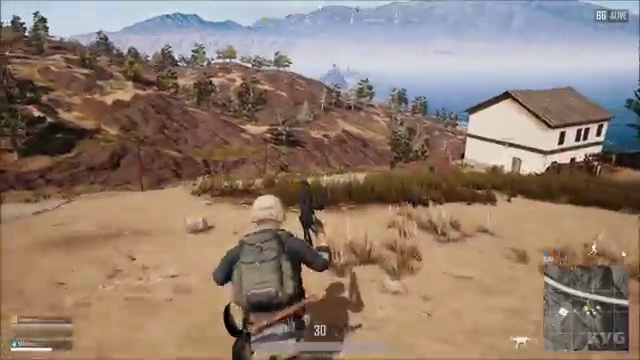Player: (188, 181, 372, 312)
